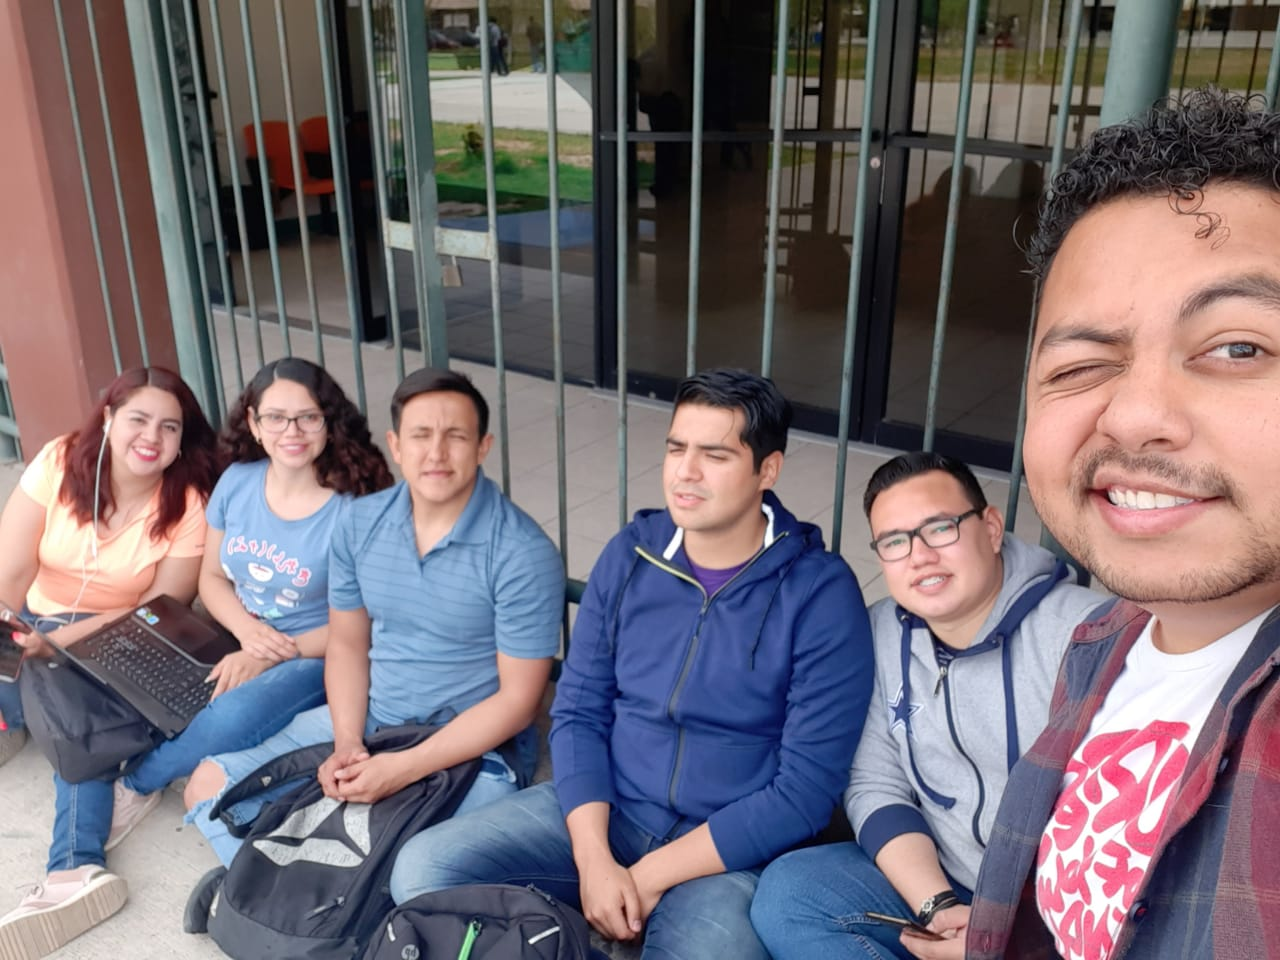Yoshi: (972, 44, 1269, 623)
